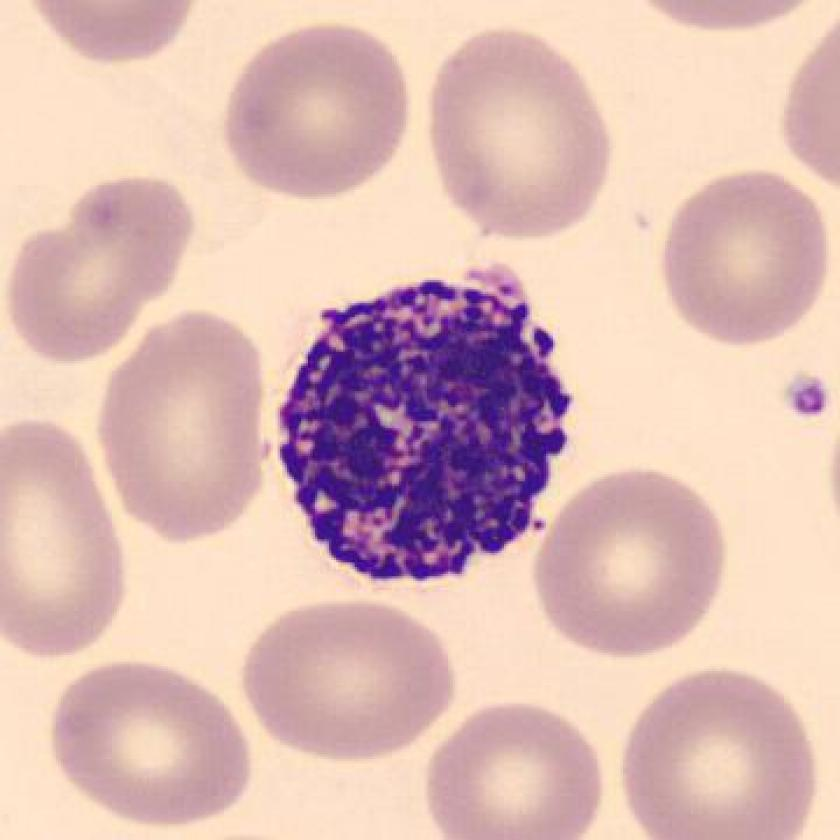basophil: (274, 270, 580, 594)
